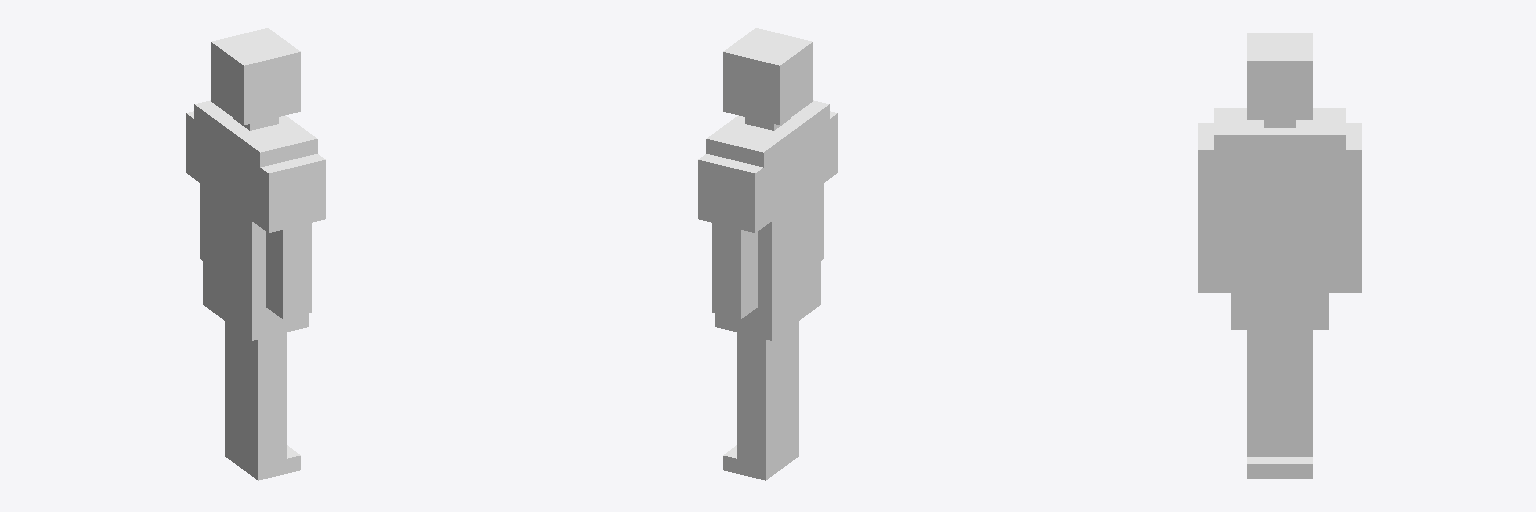
Rendered from bluejean_male.obj.
3 renders of one model, left to right at view 1: azimuth 30°, elevation 25°; view 2: azimuth 150°, elevation 25°; view 3: azimuth 270°, elevation 25°, orthographic.
Visible parts, largest first — view 1: bluejean_male; view 2: bluejean_male; view 3: bluejean_male.
Boxes of the visible parts, x1=… form: bluejean_male: x1=186, y1=28, x2=325, y2=480; bluejean_male: x1=698, y1=28, x2=837, y2=480; bluejean_male: x1=1198, y1=33, x2=1361, y2=478.
Size of the model in its own units: 4 by 28 by 10.